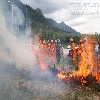fire: (59, 37, 100, 88), (24, 29, 54, 78)
